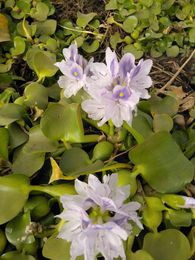water_hyacinth: (0, 31, 195, 260)
